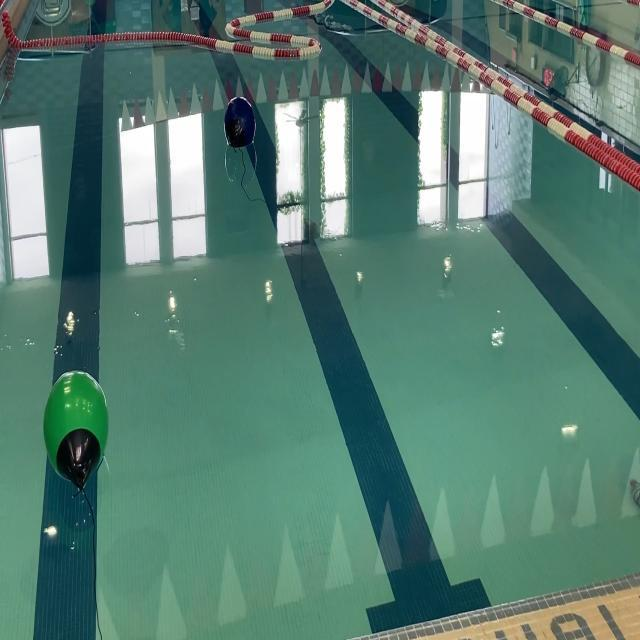buoy: (42, 368, 108, 493), (224, 96, 258, 148)
